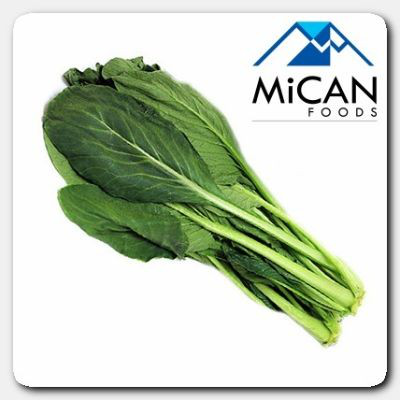Sawi: (40, 54, 242, 288)
